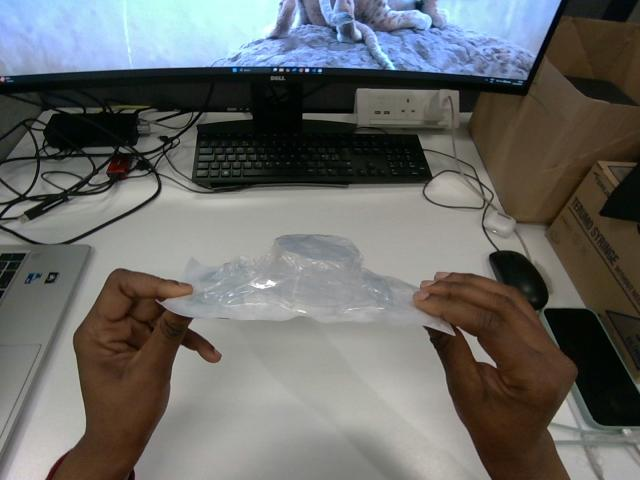gallipot: (162, 235, 453, 333)
